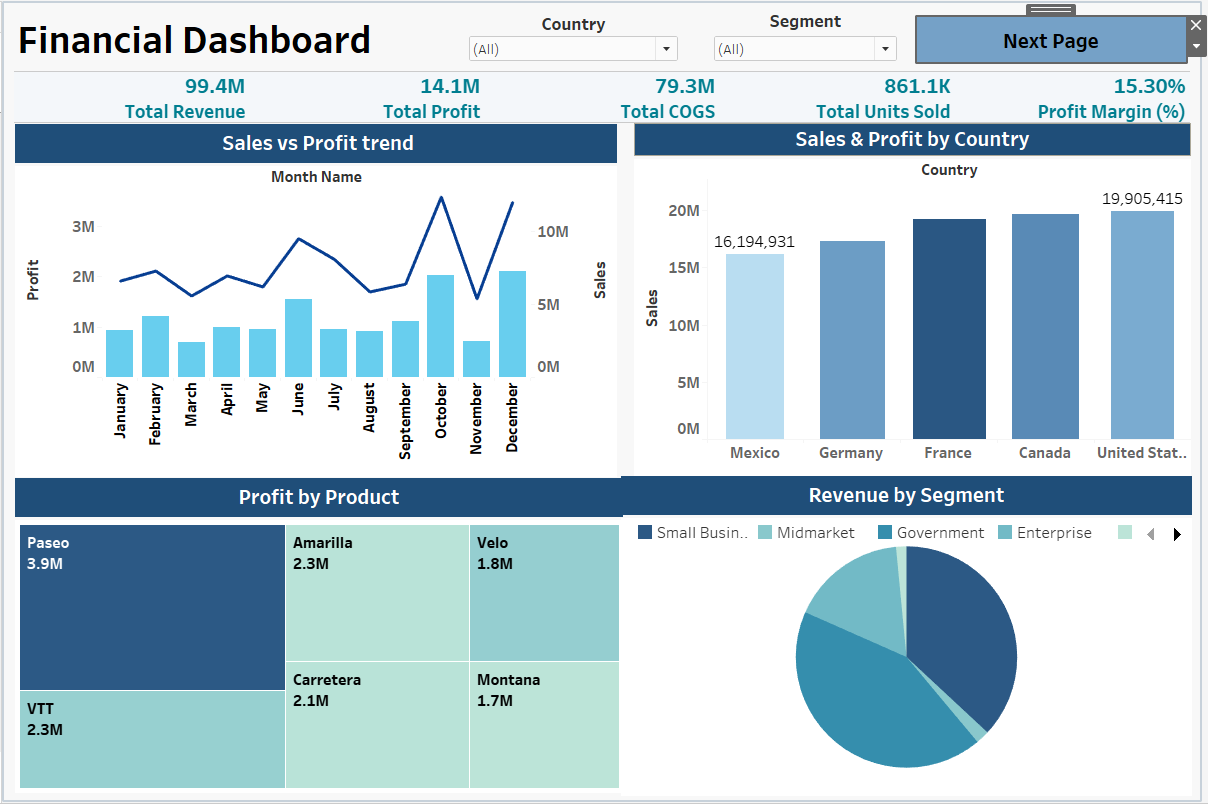

What the dashboard file says about the page in this screenshot:
{"tool":"tableau","page":{"name":"Dashboard 1","canvas":[1200,801],"ordinal":0},"visuals":[{"type":"title","box":[8,8,1184,58]},{"type":"filter","title":"Sales & Profit by Country","param":"[federated.1i1my5z1pja7kj15s460o01lk9o7].[none:Segment:nk]","box":[709,8,189,55]},{"type":"filter","title":"Sales & Profit by Country","param":"[federated.1i1my5z1pja7kj15s460o01lk9o7].[none:Country:nk]","box":[464,11,215,50]},{"type":"dashboard-object","box":[915,16,269,45]},{"type":"worksheet","title":"KPI's","mark":"Automatic","box":[8,66,1184,727]},{"type":"worksheet","title":"Sales & Profit by Country","mark":"Automatic","rows":["Sales"],"cols":["Country"],"box":[632,122,557,356]},{"type":"worksheet","title":" Sales vs Profit trend","mark":"Automatic","rows":["Profit","Sales"],"cols":["Month Name"],"box":[13,123,602,353]},{"type":"worksheet","title":"Sheet 5","mark":"Pie","box":[619,475,571,320]},{"type":"worksheet","title":"Profit by Product","mark":"Automatic","box":[13,477,608,315]},{"type":"legend","title":"Sheet 5","param":"[federated.1i1my5z1pja7kj15s460o01lk9o7].[none:Segment:nk]","box":[633,521,558,25]}]}

Visuals, with their boxes in screenshot pixels (x1, y1, x2, y2), scaled from the page's 1200x801 canvas onto the 1208x804 screenshot:
title: (8,8,1200,66)
"Sales & Profit by Country" filter: (714,8,904,63)
"Sales & Profit by Country" filter: (467,11,684,61)
dashboard-object: (921,16,1192,61)
"KPI's" worksheet: (8,66,1200,796)
"Sales & Profit by Country" worksheet: (636,122,1197,480)
" Sales vs Profit trend" worksheet: (13,123,619,478)
"Sheet 5" worksheet (Pie marks): (623,477,1198,798)
"Profit by Product" worksheet: (13,479,625,795)
"Sheet 5" legend: (637,523,1199,548)
